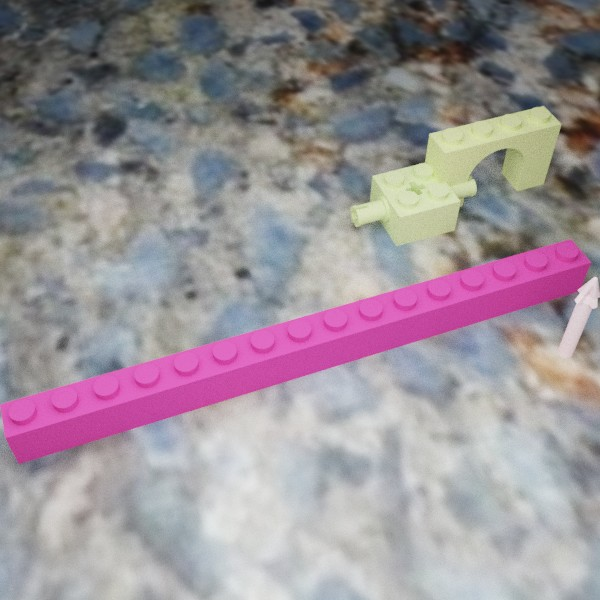lego: (0, 238, 591, 464), (420, 105, 561, 213), (350, 161, 476, 246), (557, 276, 599, 358)
